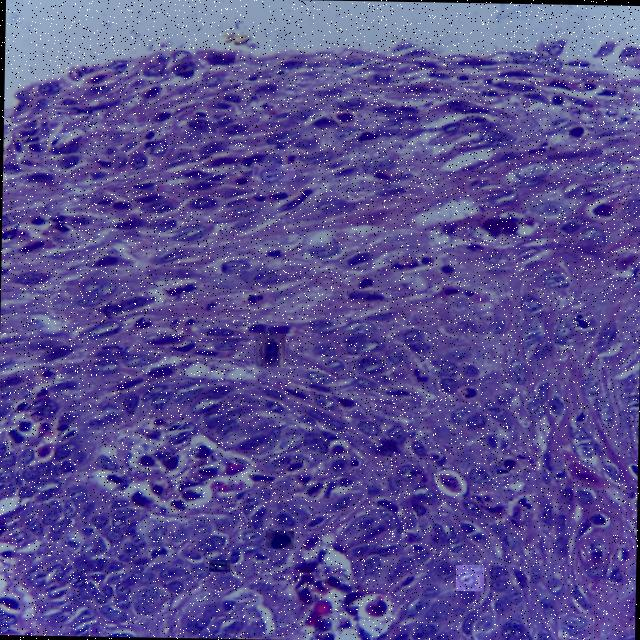Mitotic Figures: (456, 564, 484, 591), (209, 560, 230, 571)
Multiple Nucleol: (256, 334, 285, 366), (558, 613, 592, 639), (252, 164, 295, 180), (266, 531, 293, 548)
